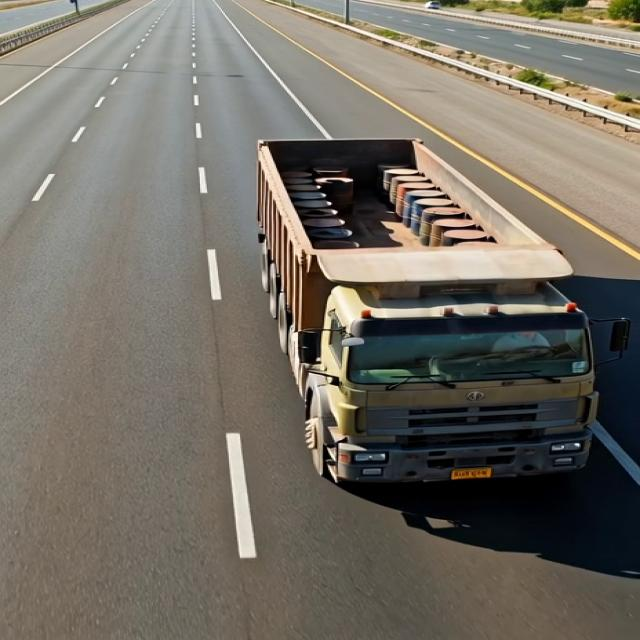trailer: (206, 140, 583, 272)
truck: (190, 126, 608, 510)
